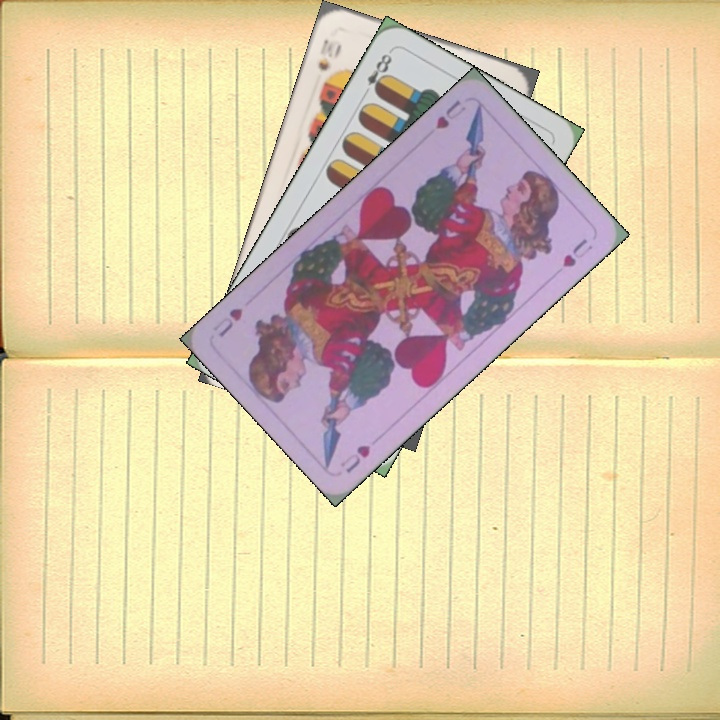E8: (358, 47, 395, 100)
HU: (431, 95, 469, 132), (336, 440, 373, 476)
S10: (314, 35, 343, 74)
